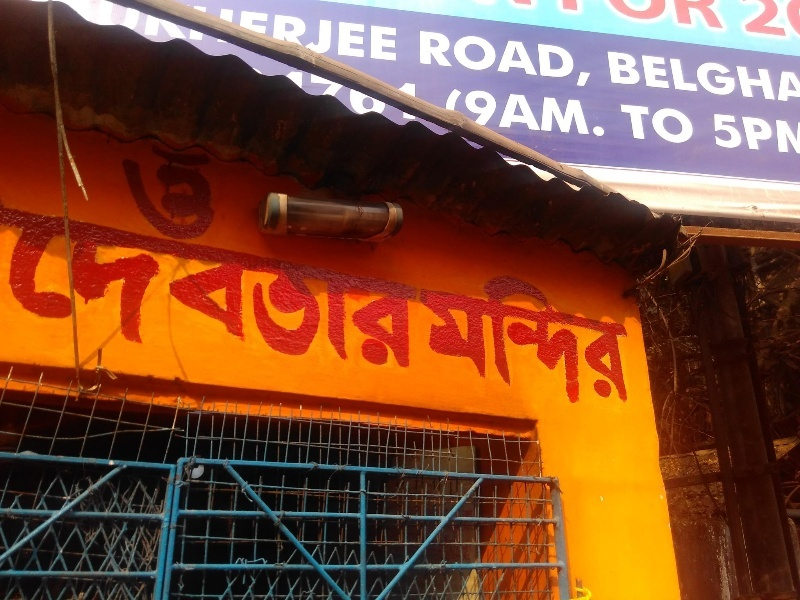text: (17, 203, 32, 388), (33, 203, 48, 388), (49, 203, 64, 388), (65, 203, 80, 388), (81, 203, 96, 388), (97, 203, 112, 388), (113, 203, 128, 388), (129, 203, 144, 388), (145, 203, 160, 388), (161, 203, 176, 388), (177, 203, 192, 388), (193, 203, 208, 388), (209, 203, 224, 388), (225, 203, 240, 388), (241, 203, 256, 388), (257, 203, 272, 388), (273, 203, 288, 388), (289, 203, 304, 388), (305, 203, 320, 388), (321, 203, 336, 388), (337, 203, 352, 388), (353, 203, 368, 388), (369, 203, 384, 388), (385, 203, 400, 388), (401, 203, 416, 388), (2, 203, 16, 388), (433, 258, 448, 411), (449, 258, 464, 411), (465, 258, 480, 411), (481, 258, 496, 411), (497, 258, 512, 411), (513, 258, 528, 411), (529, 258, 544, 411), (545, 258, 560, 411), (561, 258, 576, 411), (577, 258, 592, 411), (593, 258, 608, 411), (609, 258, 624, 411), (625, 258, 636, 411), (422, 258, 432, 411), (129, 143, 144, 243), (145, 143, 160, 243), (161, 143, 176, 243), (177, 143, 192, 243), (193, 143, 208, 243), (593, 66, 609, 140), (289, 66, 304, 140), (305, 66, 320, 140), (321, 66, 336, 140), (337, 66, 352, 140), (353, 66, 368, 140), (369, 66, 384, 140), (385, 66, 400, 140), (401, 66, 416, 140), (417, 66, 432, 140), (433, 66, 448, 140), (449, 66, 464, 140), (465, 66, 480, 140), (481, 66, 496, 140), (497, 66, 512, 140), (513, 66, 528, 140), (529, 66, 544, 140), (545, 66, 560, 140), (561, 66, 576, 140), (577, 66, 592, 140), (209, 143, 219, 243), (145, 1, 160, 67), (161, 1, 176, 67), (177, 1, 192, 67), (193, 1, 208, 67), (209, 1, 224, 67), (225, 1, 240, 67), (241, 1, 256, 67), (257, 1, 272, 67), (273, 1, 288, 67), (289, 1, 304, 67), (305, 1, 320, 67), (321, 1, 336, 67), (337, 1, 352, 67), (353, 1, 368, 67), (369, 1, 384, 67), (385, 1, 400, 67), (577, 29, 593, 86), (609, 49, 624, 109), (625, 49, 640, 109), (641, 49, 656, 109), (657, 49, 672, 109), (673, 49, 688, 109), (689, 49, 704, 109), (705, 49, 720, 109), (721, 49, 736, 109), (737, 49, 752, 109), (753, 49, 768, 109), (769, 49, 784, 109), (433, 29, 448, 86), (449, 29, 464, 86), (465, 29, 480, 86), (481, 29, 496, 86), (497, 29, 512, 86), (513, 29, 528, 86), (529, 29, 544, 86), (545, 29, 560, 86), (561, 29, 576, 86), (785, 49, 799, 109), (418, 29, 432, 86), (133, 1, 144, 67), (721, 110, 736, 158), (737, 110, 752, 158), (753, 110, 768, 158), (769, 110, 784, 158), (785, 110, 800, 158), (121, 143, 128, 243), (279, 66, 288, 140), (625, 102, 640, 146), (641, 102, 656, 146), (657, 102, 672, 146), (673, 102, 688, 146), (481, 1, 496, 40), (497, 1, 512, 40), (513, 1, 528, 40), (529, 1, 544, 40), (545, 1, 560, 40), (561, 1, 576, 40), (577, 1, 592, 40), (593, 1, 608, 40), (609, 1, 624, 40), (625, 1, 640, 40), (641, 1, 656, 40), (657, 1, 672, 40), (673, 1, 688, 40), (689, 1, 704, 40), (705, 1, 720, 40), (721, 1, 736, 40), (737, 1, 752, 40), (753, 1, 768, 40), (769, 1, 784, 40), (709, 110, 720, 158), (785, 1, 798, 40), (689, 102, 699, 146), (604, 49, 608, 109), (475, 1, 480, 40), (417, 203, 418, 388), (620, 102, 624, 146)
